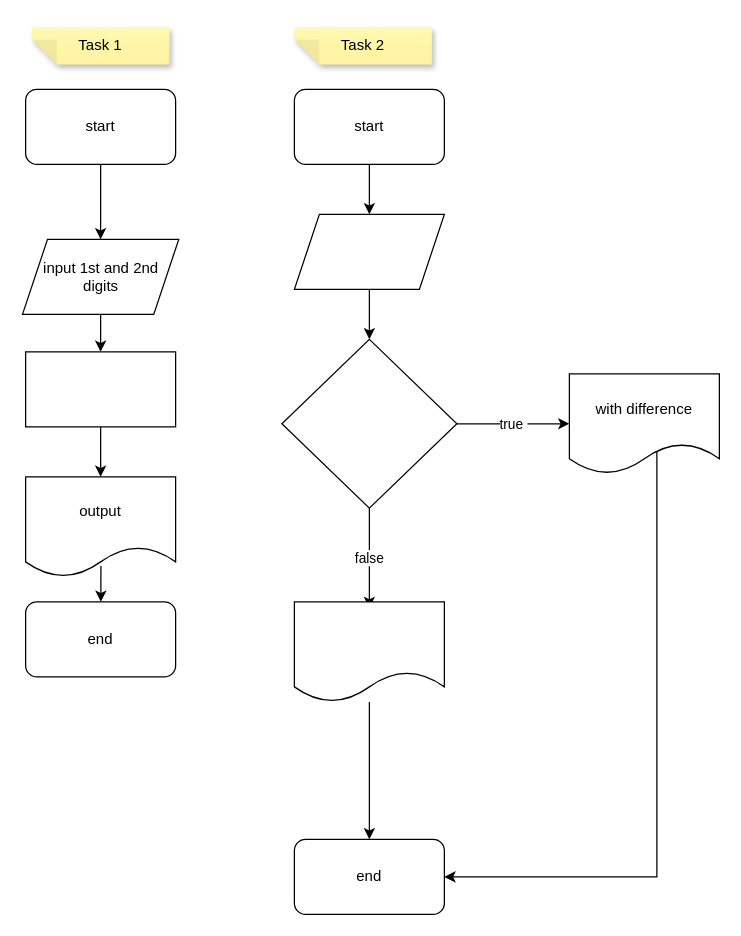
Image size: 741x936. Some labels were removed from this diagram. Each missing label, with the centre of its shape:
"int num1, int num2, int num3" belongs at [368,251].
"num != num1 num != num2 num != num3" belongs at [369,423].
"process Total amount" belongs at [100,389].
"without difference" belongs at [368,651].
